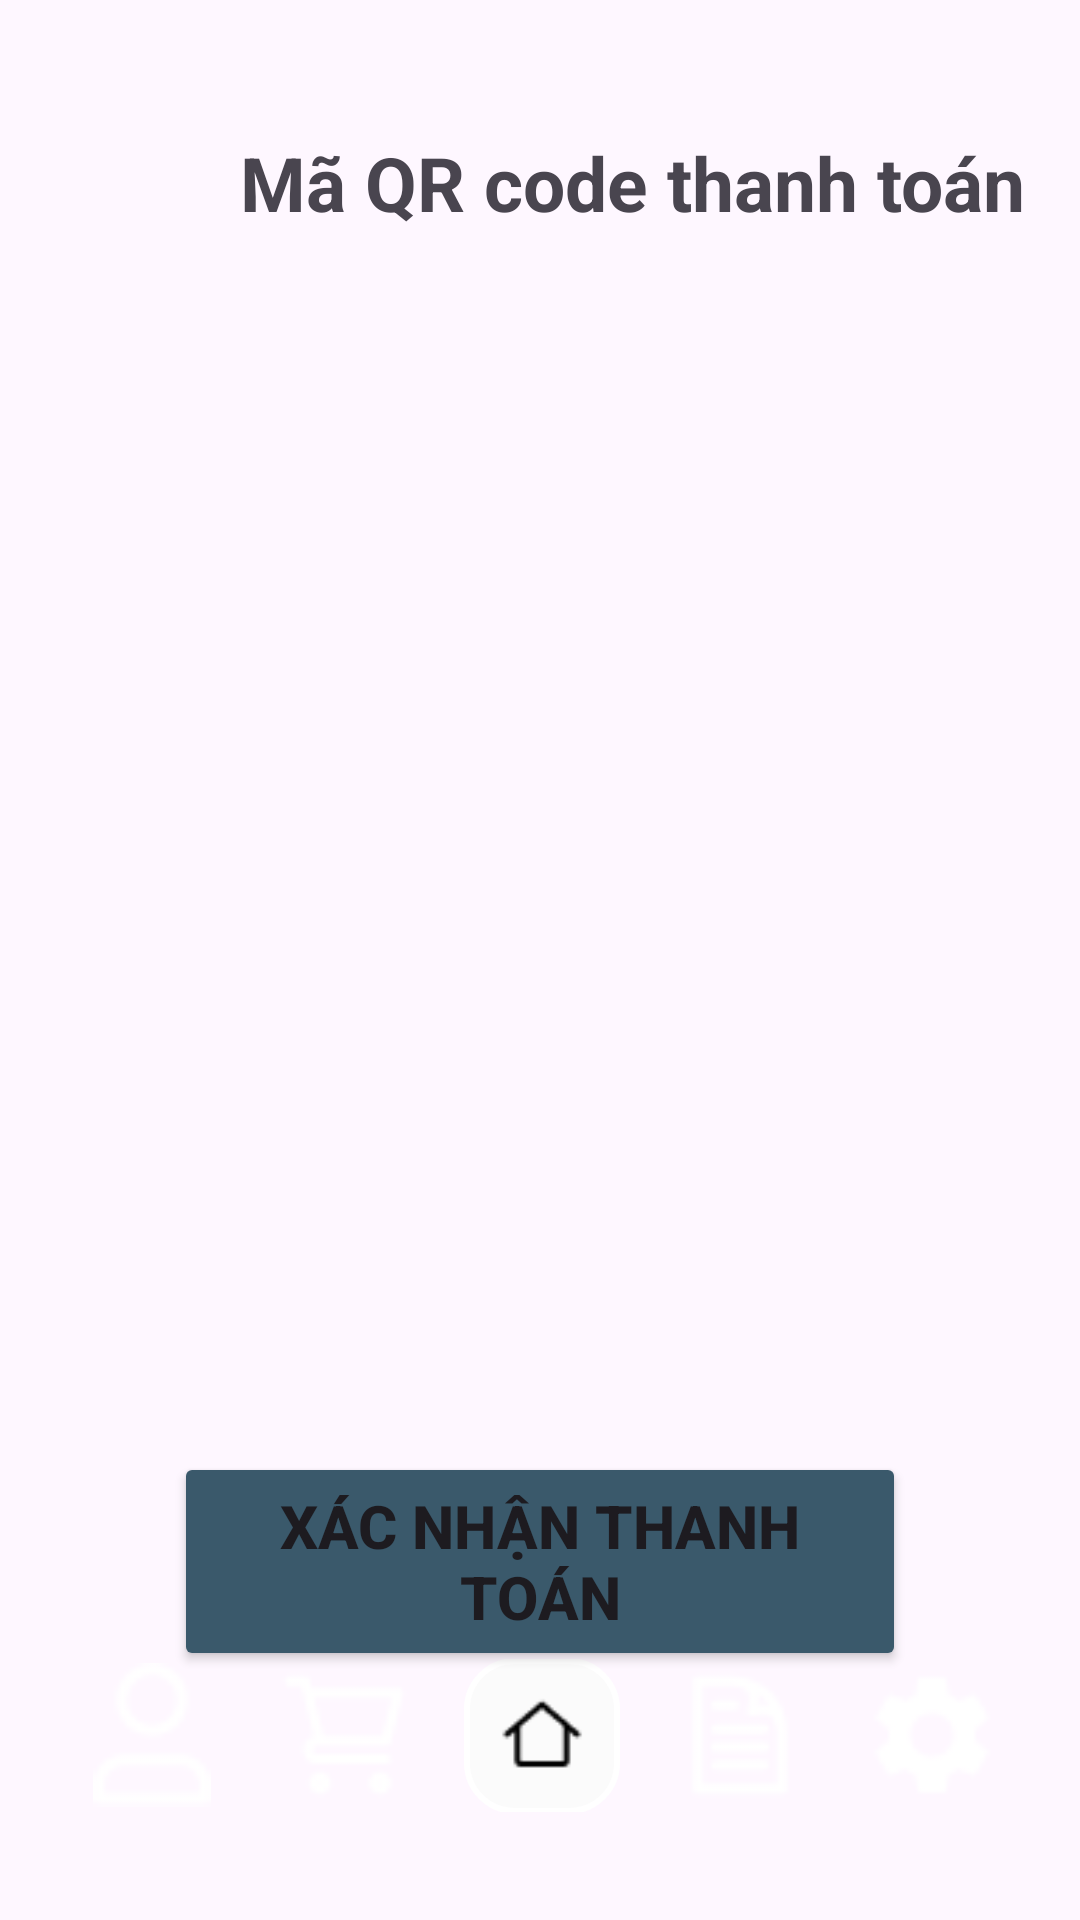

Icon bounding boxes for this 1080px×1920px phone screenshot, format (x1, y1, x2, y2):
trang chu: (502, 1700, 582, 1768)
